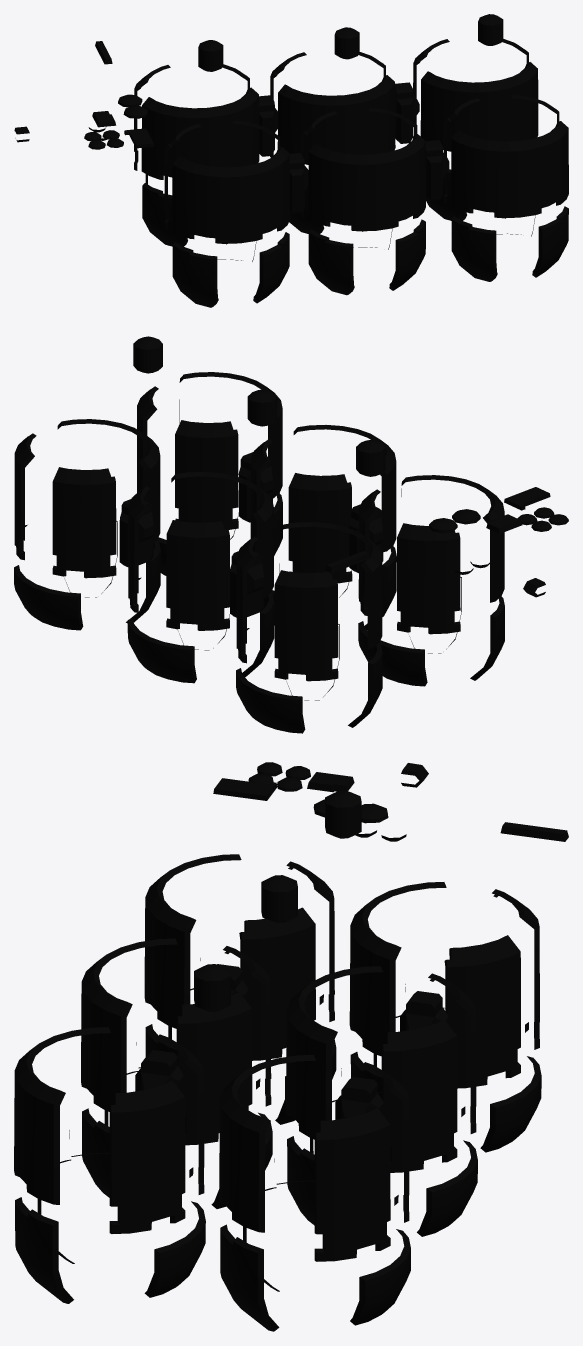
The model's file is prop_static_tr1_container_01_05.glb.
3 renders of one model, top to bottom at view 1: azimuth 30°, elevation 25°; view 2: azimuth 150°, elevation 25°; view 3: azimuth 270°, elevation 25°, orthographic. The views are drawn at different scales.
Parts seen in each view (by area): view 1: tr1_container_01_05_mat01b_LOD0, tr1_container_01_05_mat01d_LOD0, tr1_container_01_05_mat01c_LOD0, tr1_container_01_05_mat01a_LOD0; view 2: tr1_container_01_05_mat01b_LOD0, tr1_container_01_05_mat01d_LOD0, tr1_container_01_05_mat01c_LOD0, tr1_container_01_05_mat01a_LOD0; view 3: tr1_container_01_05_mat01b_LOD0, tr1_container_01_05_mat01d_LOD0, tr1_container_01_05_mat01c_LOD0, tr1_container_01_05_mat01a_LOD0.
Boxes of the visible parts, box(x1,y1,x2,y2) form: tr1_container_01_05_mat01b_LOD0: box(164, 38, 538, 307); tr1_container_01_05_mat01d_LOD0: box(300, 95, 568, 295); tr1_container_01_05_mat01c_LOD0: box(134, 64, 259, 246); tr1_container_01_05_mat01a_LOD0: box(14, 14, 503, 214); tr1_container_01_05_mat01b_LOD0: box(14, 419, 504, 686); tr1_container_01_05_mat01d_LOD0: box(137, 372, 396, 629); tr1_container_01_05_mat01c_LOD0: box(236, 522, 382, 733); tr1_container_01_05_mat01a_LOD0: box(119, 336, 568, 617); tr1_container_01_05_mat01b_LOD0: box(144, 854, 477, 1331); tr1_container_01_05_mat01d_LOD0: box(14, 938, 272, 1303); tr1_container_01_05_mat01c_LOD0: box(349, 882, 541, 1152); tr1_container_01_05_mat01a_LOD0: box(135, 762, 568, 1119).
Size of what is drawn, in the model's own units: 12.06 by 5.26 by 7.99.
Materials: 4 (4 with a texture image).
